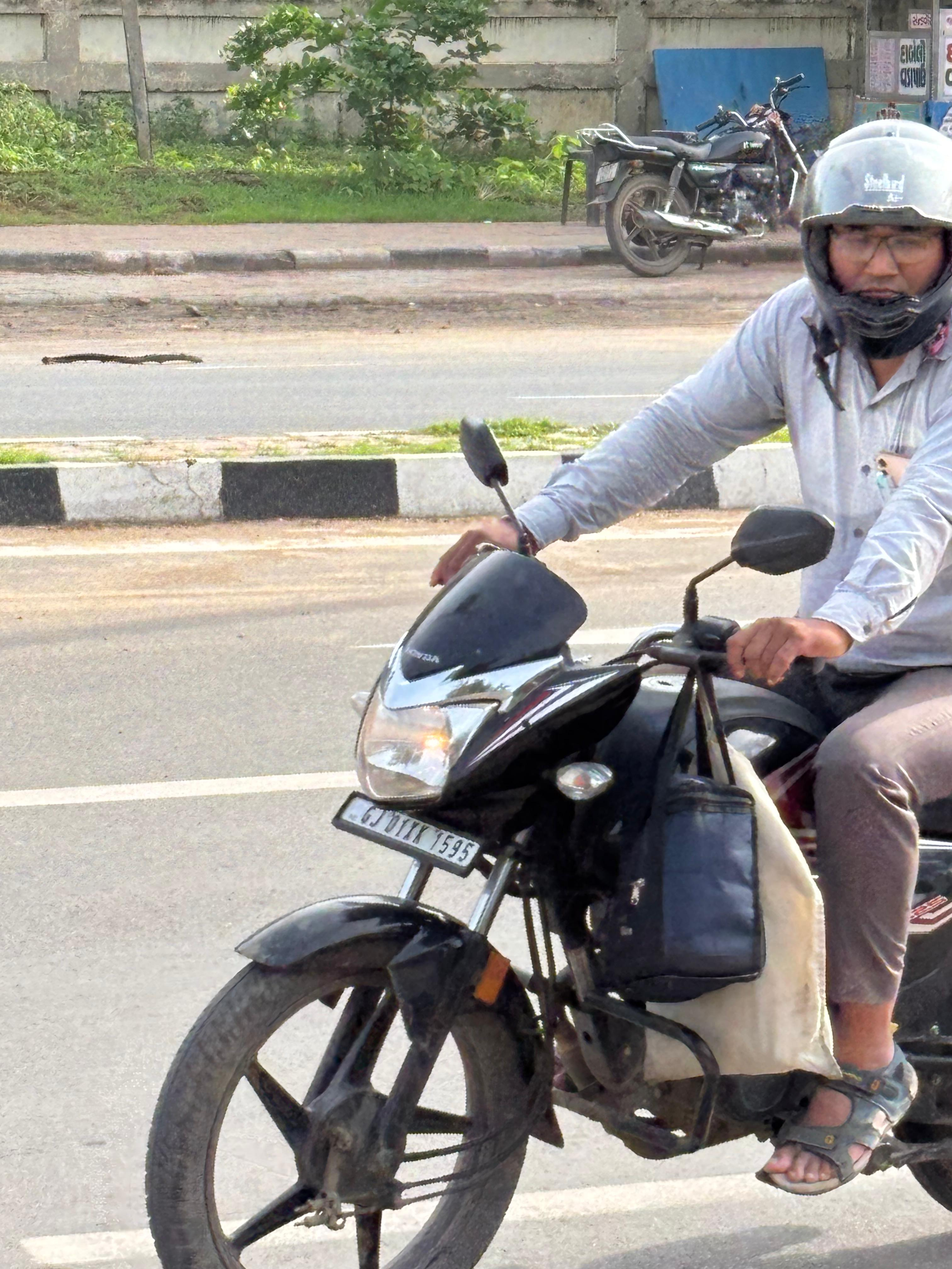BikeWithRider: (125, 77, 952, 1269)
Helmet: (758, 102, 952, 361)
